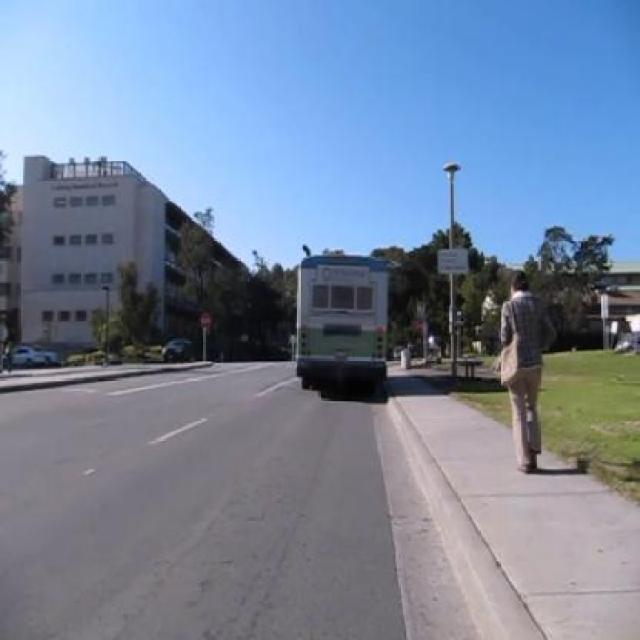stop: (198, 311, 212, 329), (414, 317, 427, 335)
